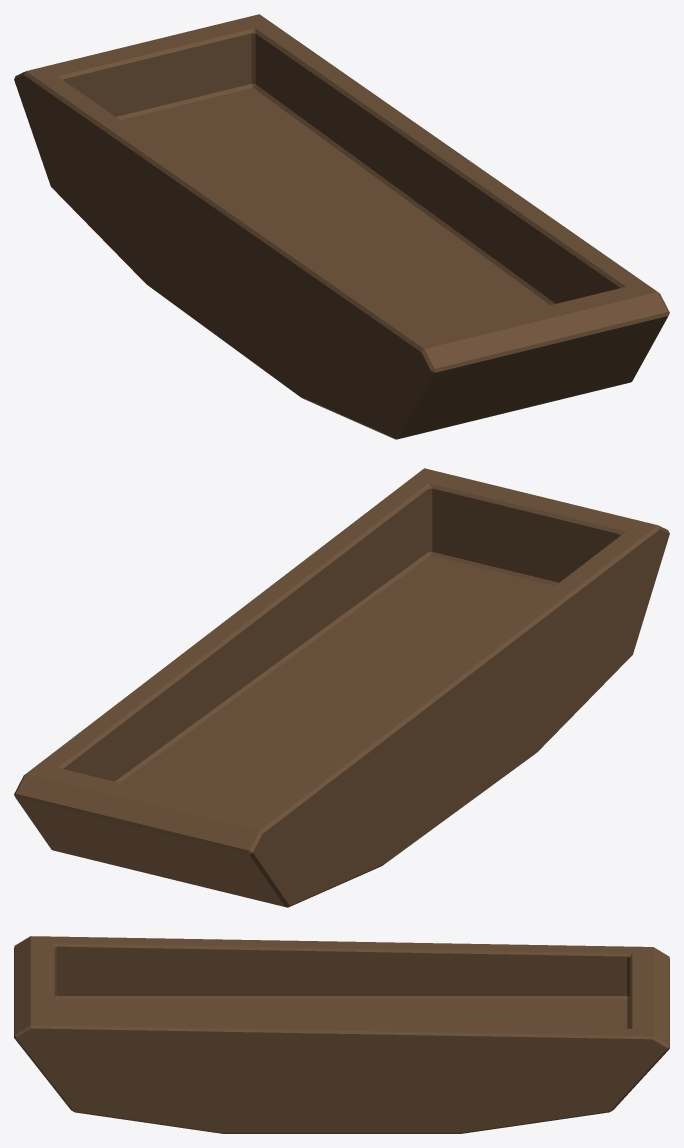
Rendered from boat_row.fbx.
3 renders of one model, top to bottom at view 1: azimuth 30°, elevation 25°; view 2: azimuth 150°, elevation 25°; view 3: azimuth 270°, elevation 25°, orthographic. The views are drawn at different scales.
Parts seen in each view (by area): view 1: boat_row; view 2: boat_row; view 3: boat_row.
Part boxes in pixels (<box>): boat_row: <box>14,14,669,439</box>; boat_row: <box>14,468,669,907</box>; boat_row: <box>14,936,669,1133</box>.
Size of the model in its own units: 360 by 200 by 1095.
